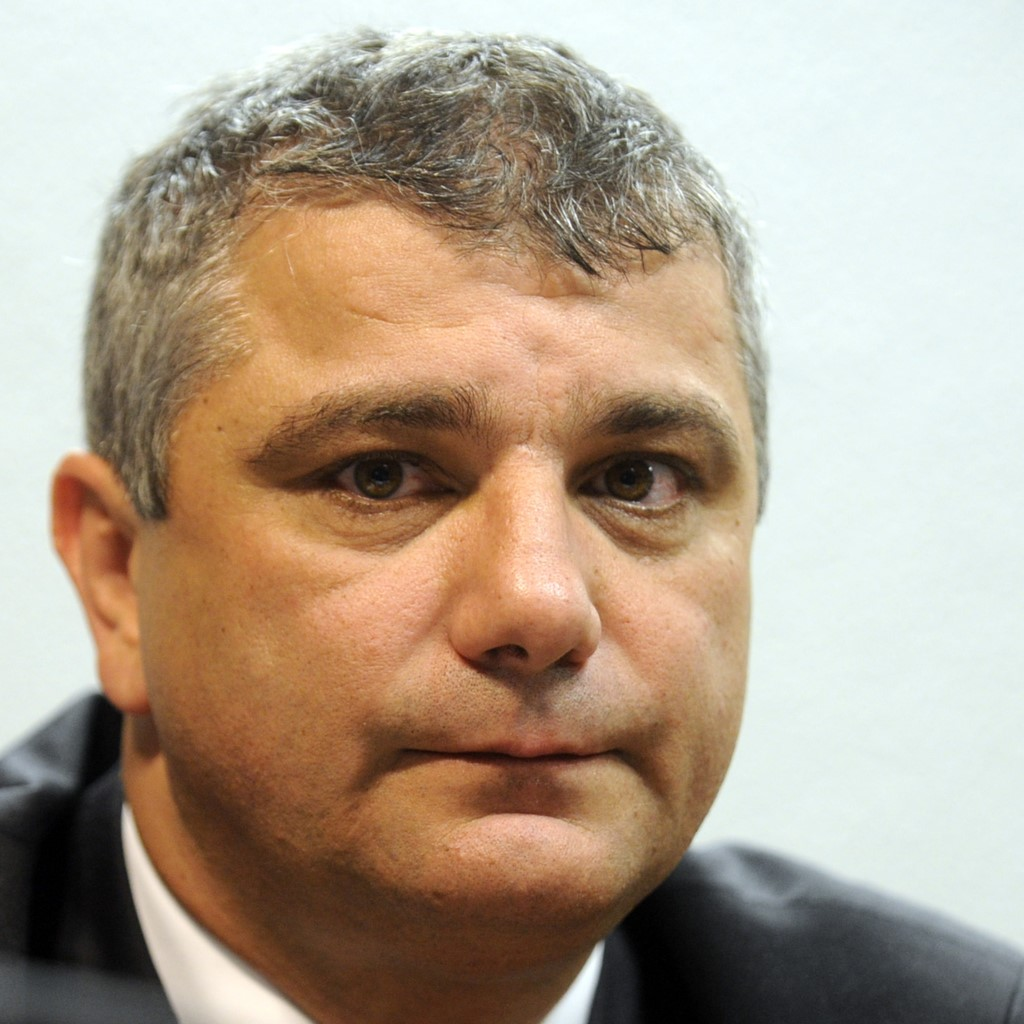sin_mascara: (184, 126, 758, 946)
